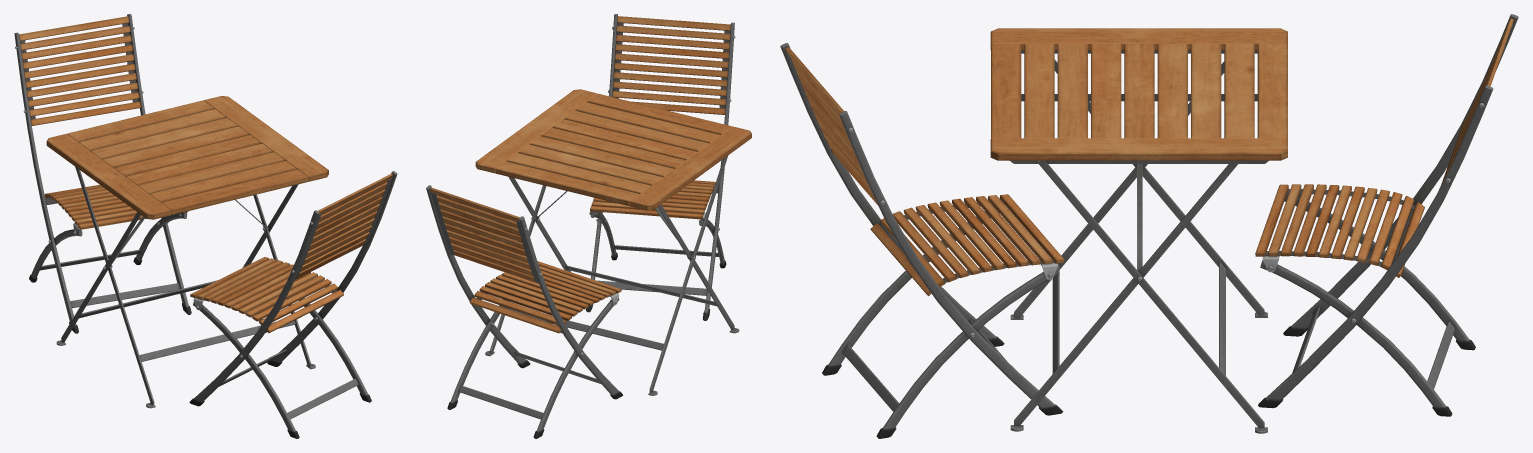
File: outdoor_table_chair_set_01.glb
The picture shows the model from 3 angles, left to right: view 1: azimuth 30°, elevation 25°; view 2: azimuth 150°, elevation 25°; view 3: azimuth 270°, elevation 25°; orthographic projection. The views are drawn at different scales.
Visible parts, largest first — view 1: outdoor_table_chair_set_01_table, outdoor_table_chair_set_01_chair_02, outdoor_table_chair_set_01_chair_01; view 2: outdoor_table_chair_set_01_table, outdoor_table_chair_set_01_chair_02, outdoor_table_chair_set_01_chair_01; view 3: outdoor_table_chair_set_01_table, outdoor_table_chair_set_01_chair_01, outdoor_table_chair_set_01_chair_02.
Part boxes in pixels (left/top/right/bottom): outdoor_table_chair_set_01_table: left=46, top=96, right=328, bottom=408; outdoor_table_chair_set_01_chair_02: left=14, top=14, right=191, bottom=333; outdoor_table_chair_set_01_chair_01: left=189, top=171, right=397, bottom=438; outdoor_table_chair_set_01_table: left=475, top=89, right=751, bottom=395; outdoor_table_chair_set_01_chair_02: left=426, top=185, right=622, bottom=438; outdoor_table_chair_set_01_chair_01: left=586, top=14, right=735, bottom=320; outdoor_table_chair_set_01_table: left=990, top=28, right=1287, bottom=433; outdoor_table_chair_set_01_chair_01: left=780, top=43, right=1064, bottom=438; outdoor_table_chair_set_01_chair_02: left=1255, top=14, right=1518, bottom=416.
Size of the model in its own units: 0.7417 by 0.8586 by 1.72.
2 materials, 2 textured.
